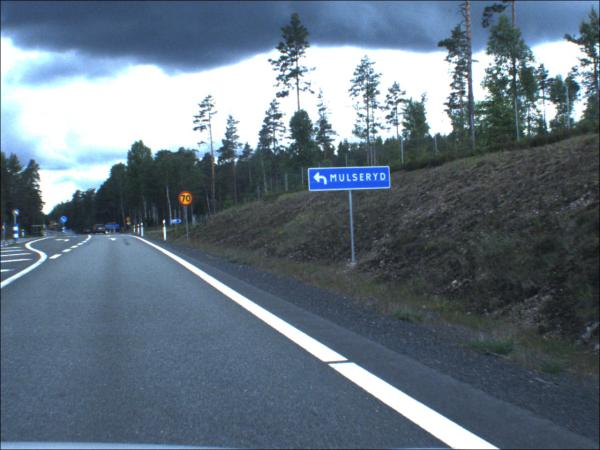70_SIGN: (179, 192, 195, 208), (127, 218, 133, 223)
PASS_RIGHT_SIDE: (61, 217, 69, 225)
PRIORITY_ROAD: (128, 223, 133, 227)
